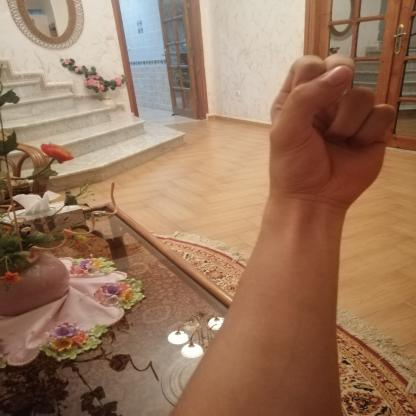QAAF: (248, 44, 404, 209)
